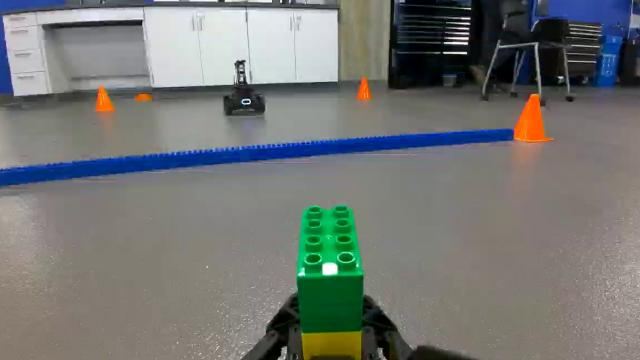robot: (221, 57, 268, 118)
